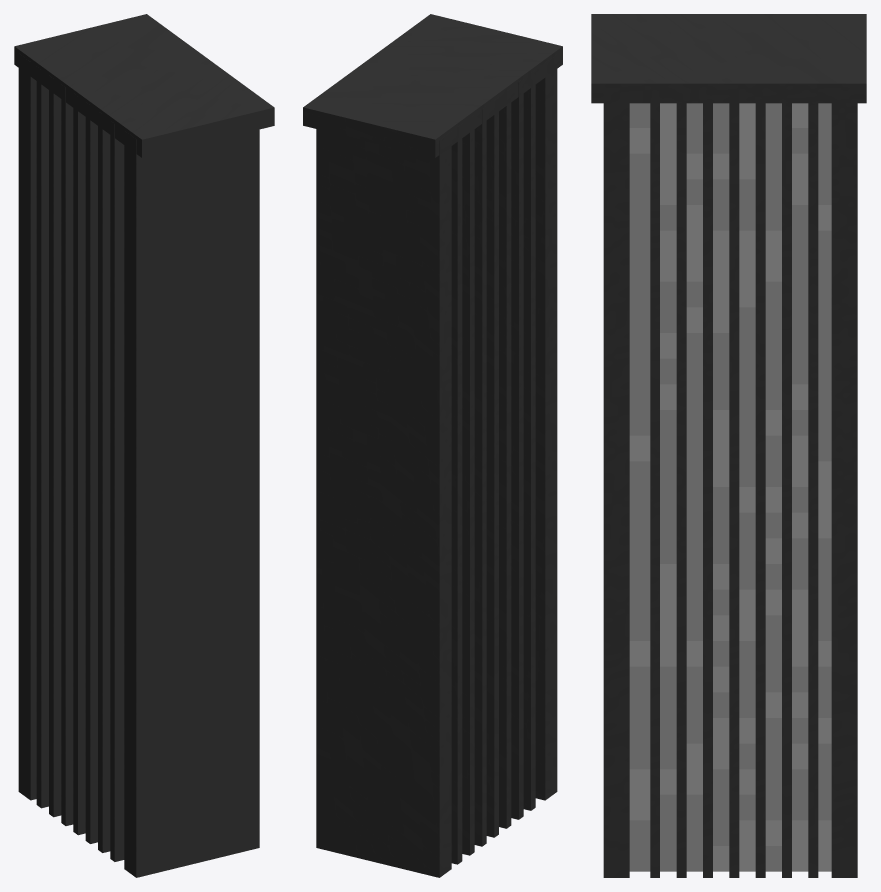
The model's file is grattacielo.fbx.
The picture shows the model from 3 angles, left to right: view 1: azimuth 30°, elevation 25°; view 2: azimuth 150°, elevation 25°; view 3: azimuth 270°, elevation 25°; orthographic projection. The views are drawn at different scales.
Parts seen in each view (by area): view 1: pCube109; view 2: pCube109; view 3: pCube109.
Boxes of the visible parts, bbox=[...] form: pCube109: bbox=[14, 14, 274, 877]; pCube109: bbox=[303, 14, 562, 877]; pCube109: bbox=[591, 14, 866, 877].
Size of the model in its own units: 32.37 by 173 by 54.05.
Materials: 2 (1 with a texture image).
